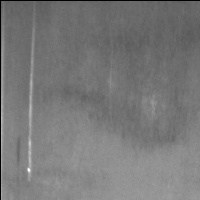scratches: (22, 25, 38, 185)
